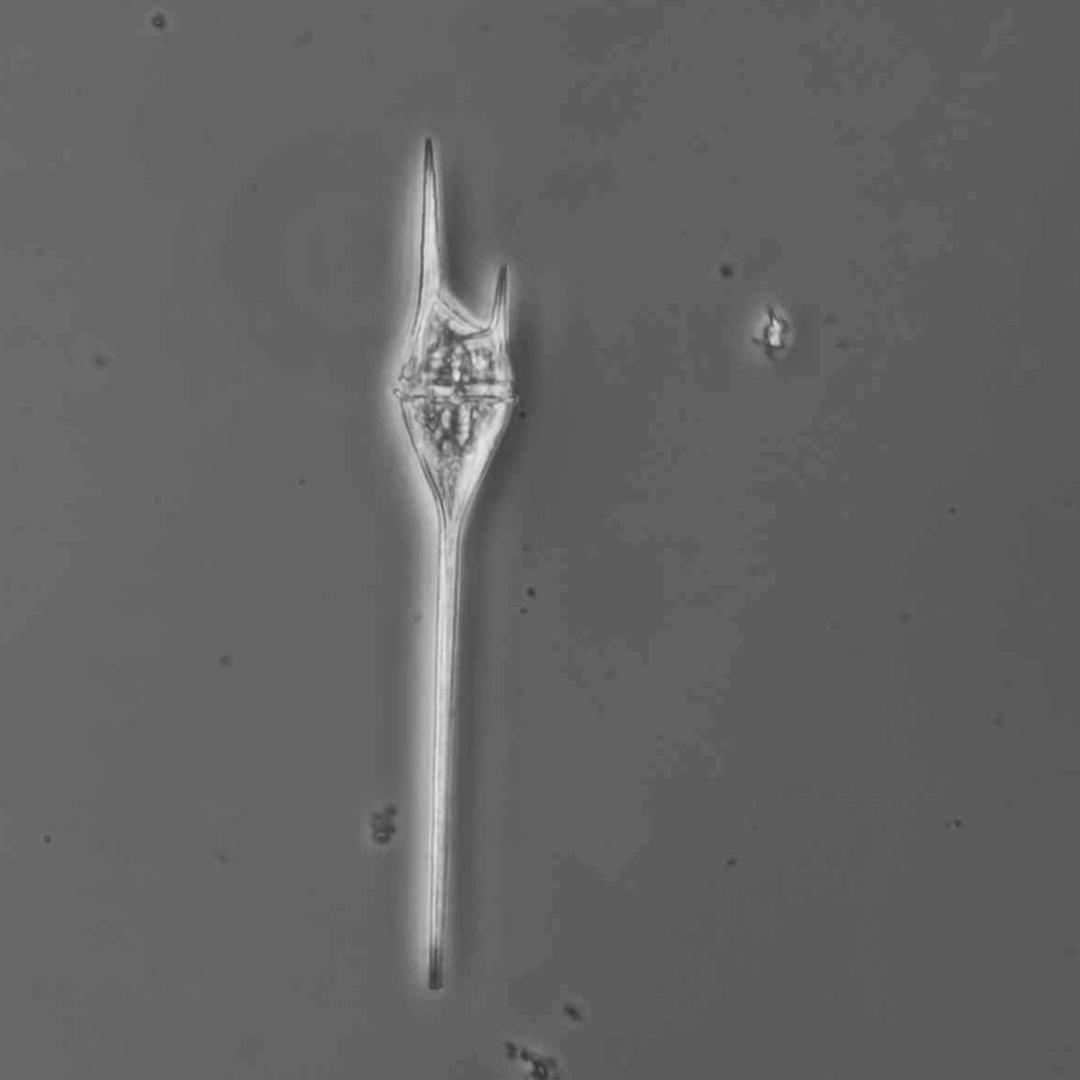ceratium_furca: (394, 137, 513, 995)
